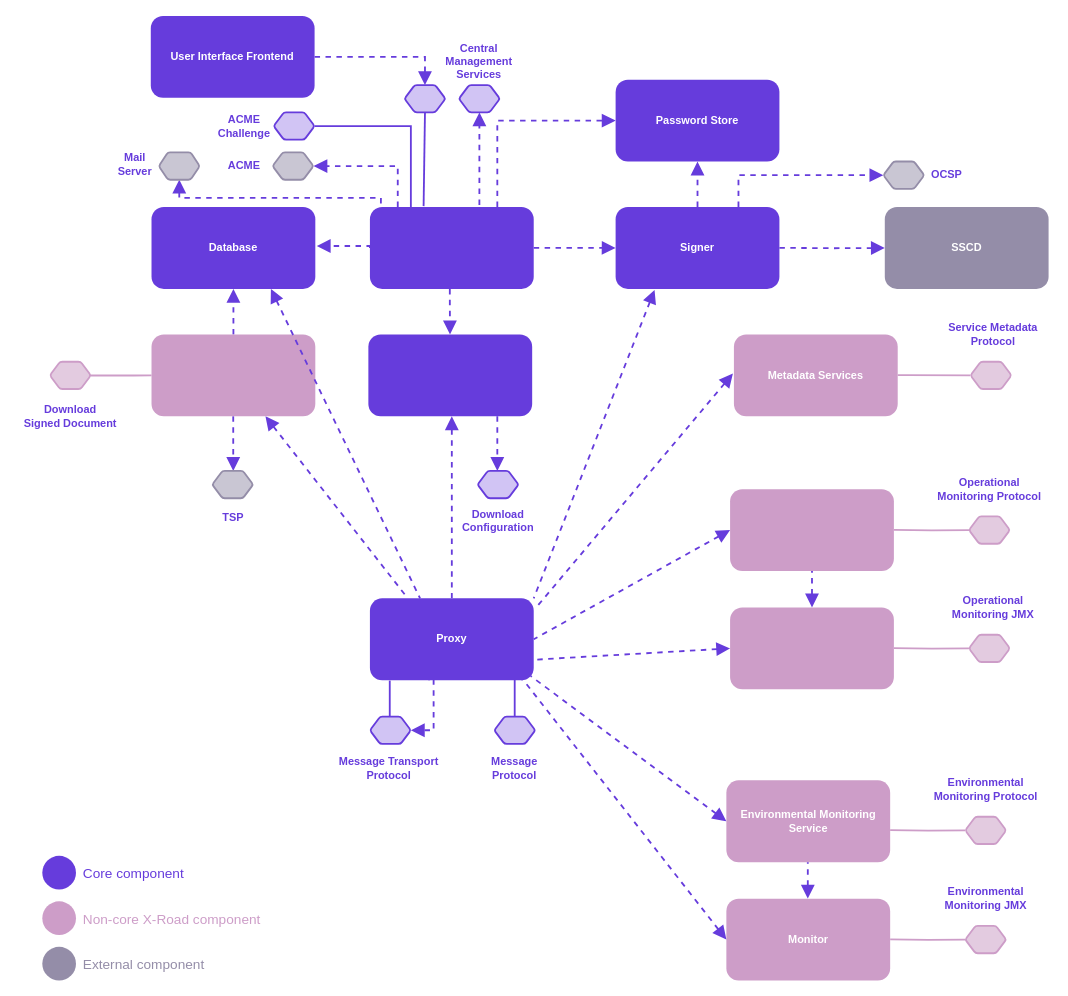
This 1068x996 diagram has some shape labels left out. Here are the shapes that lost their labels. From the top down, the centre of each, then its label:
point (451, 247): Management REST API
point (233, 375): Message Log
point (450, 375): Configuration Client
point (811, 530): Operational Monitoring Services
point (811, 648): Opmonitor
